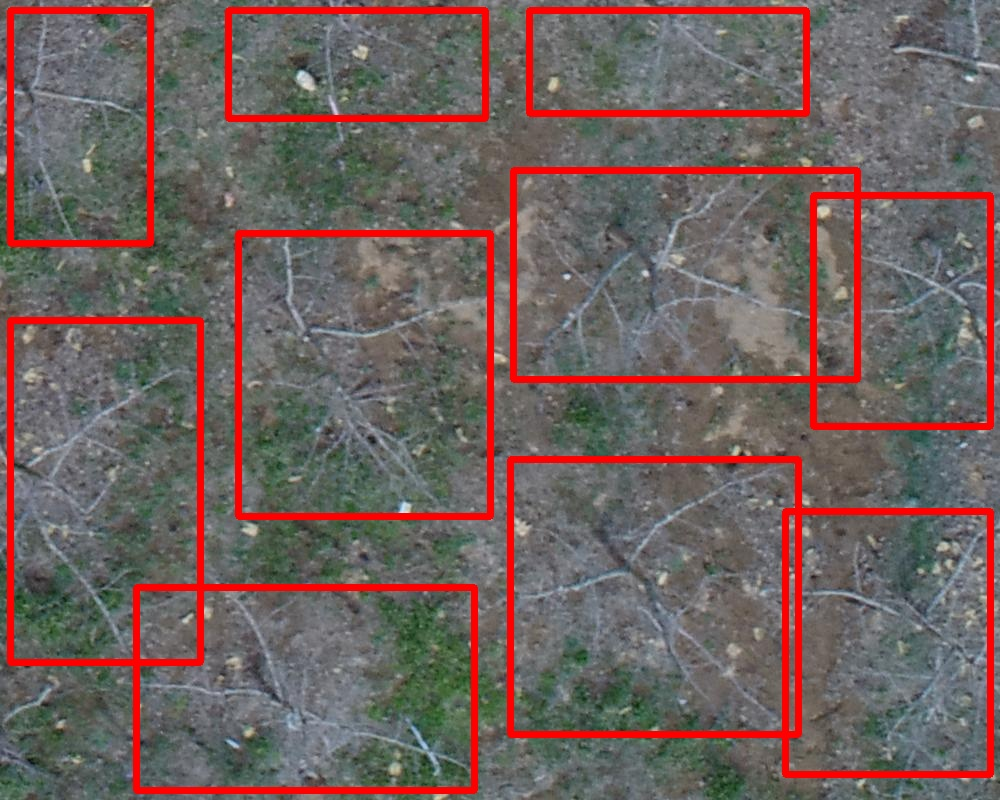apple: (510, 459, 798, 734), (513, 170, 857, 379), (238, 233, 490, 516), (136, 587, 474, 790), (10, 320, 200, 662), (785, 511, 990, 774), (813, 195, 990, 426), (10, 10, 150, 243), (529, 10, 806, 113), (228, 10, 485, 118)
